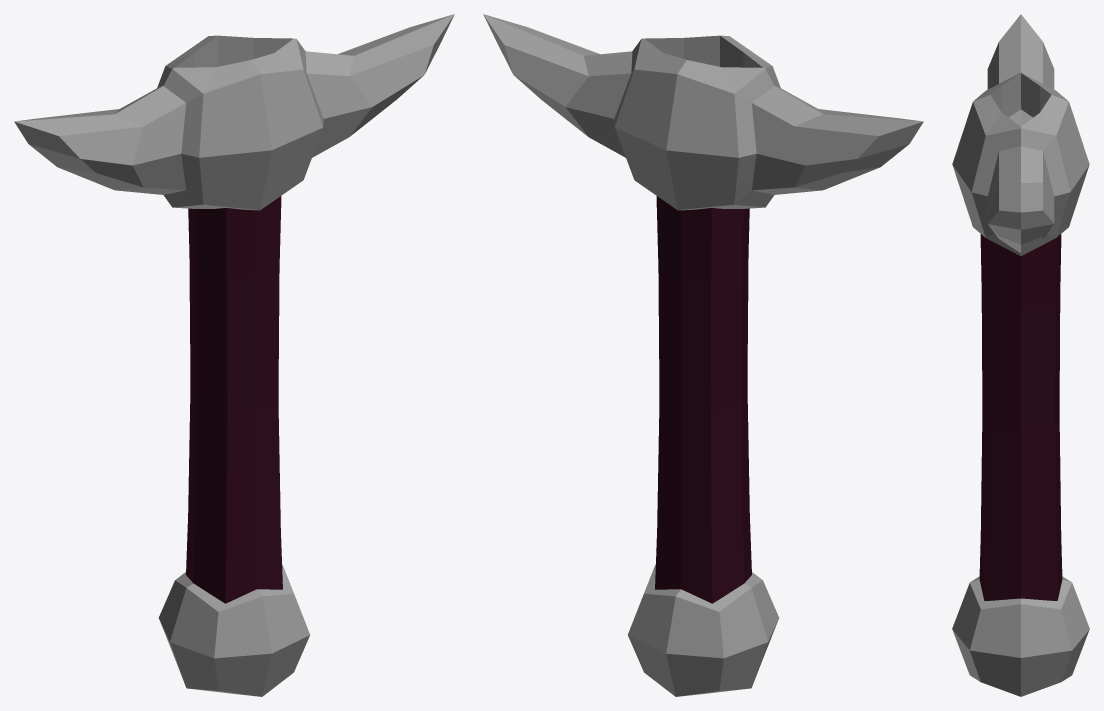
File: Dagger.Handle.fbx
3 views of the same model, side by side, from view 1: azimuth 30°, elevation 25°; view 2: azimuth 150°, elevation 25°; view 3: azimuth 270°, elevation 25° (orthographic). The views are drawn at different scales.
Parts seen in each view (by area): view 1: Dagger.Handle; view 2: Dagger.Handle; view 3: Dagger.Handle.
Part boxes in pixels (x1,y1,x2,y2): Dagger.Handle: (14, 14, 454, 696); Dagger.Handle: (483, 14, 923, 696); Dagger.Handle: (952, 14, 1089, 696).
Size of the model in its own units: 0.1175 by 0.0344 by 0.1646.
